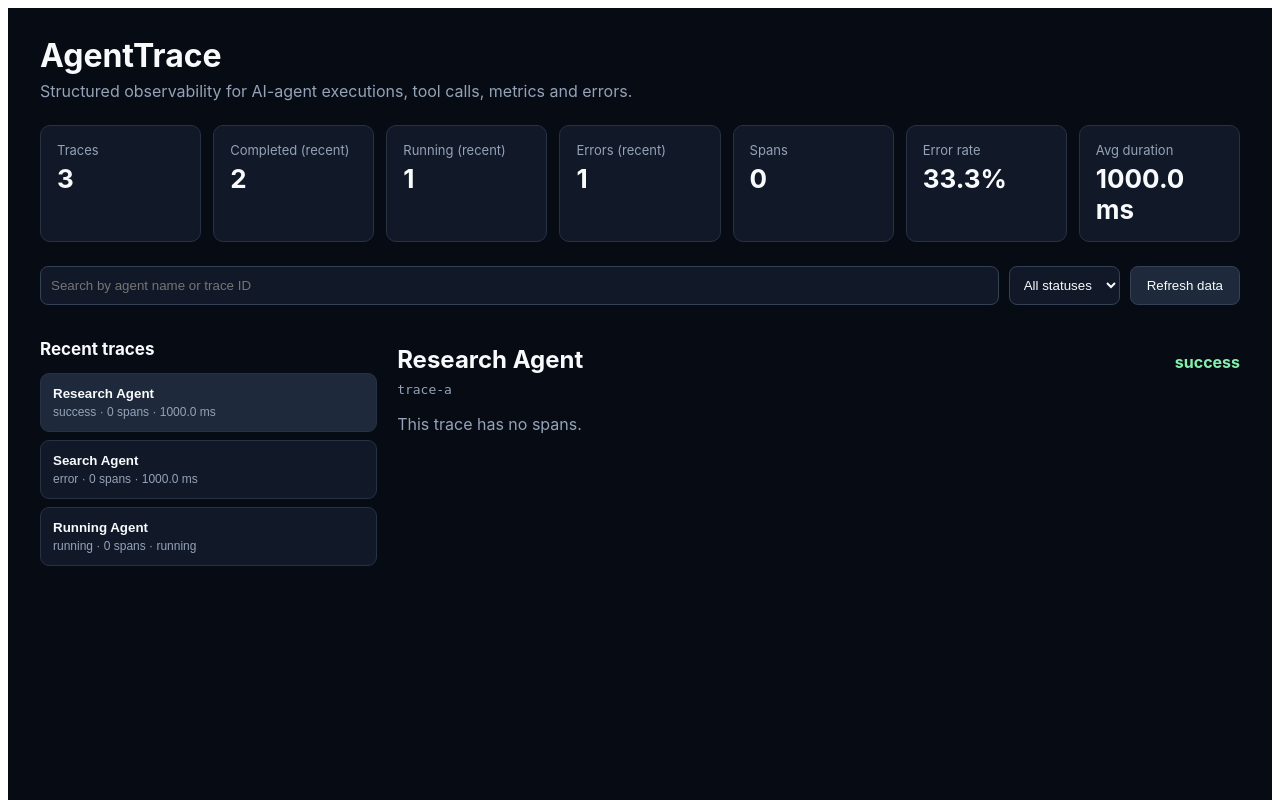
Test: DashboardPage interactions › filters visible trace buttons using search input and status selection
Expected: the button "Research Agent success · 0 spans · 1000.0 ms" is shown, [40,373,377,432]
In the field named "Search traces": (519, 286) [40,266,999,305], type "agent"
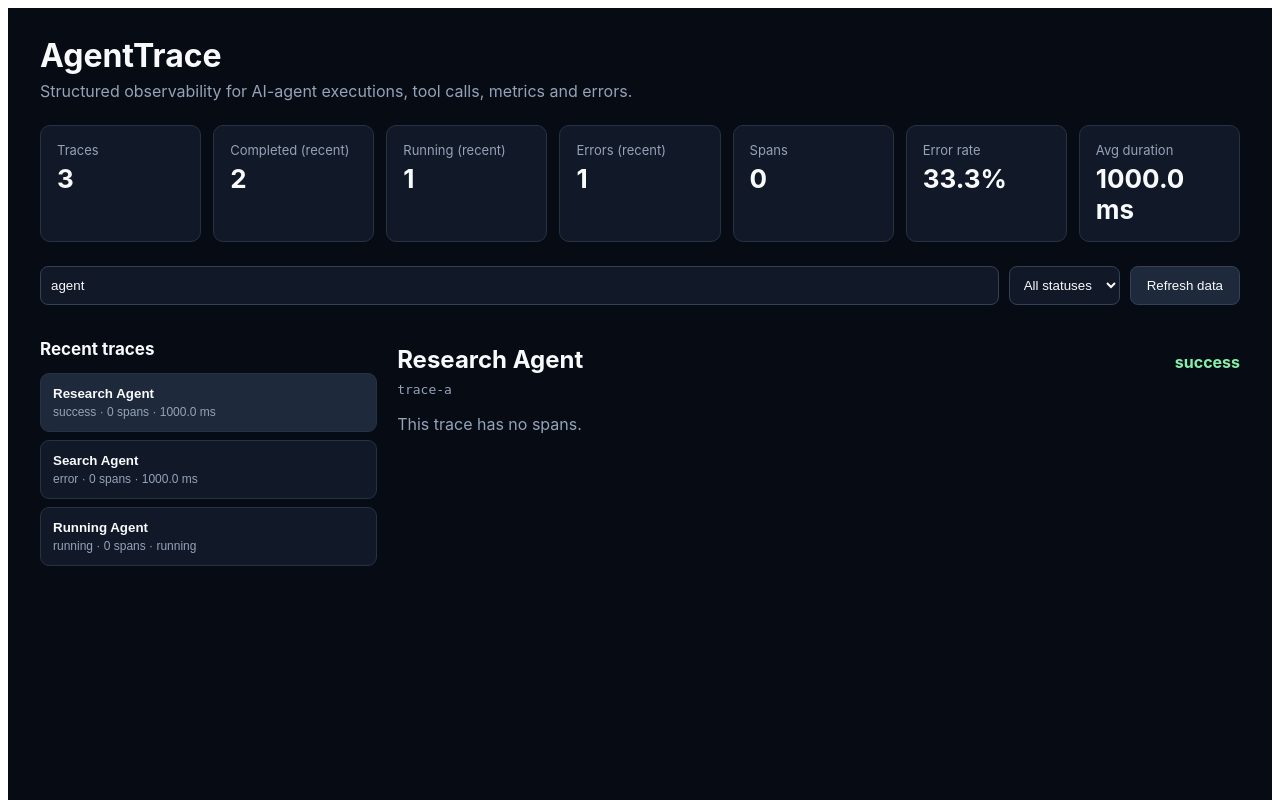
Select "Error" in the dropdown named "Filter trace status": (1064, 286) [1009,266,1120,305]
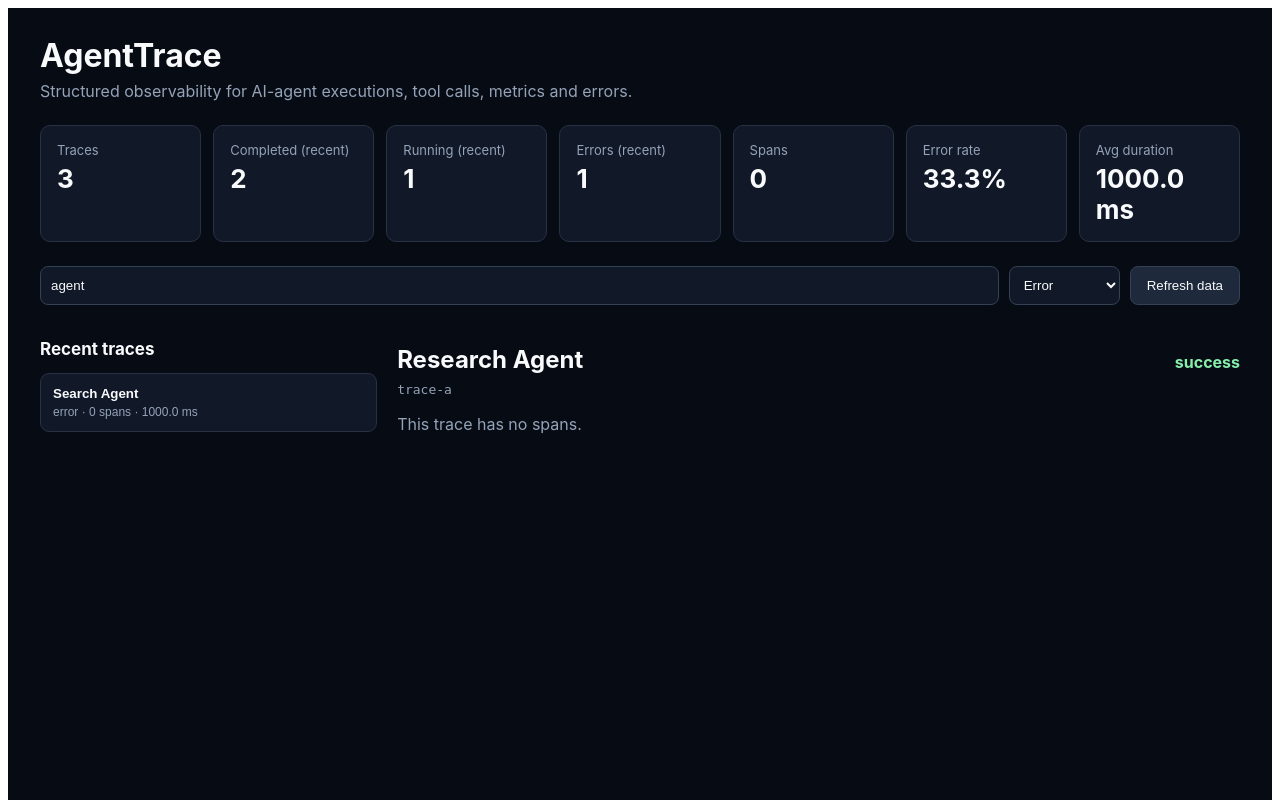
Expected: the button "Search Agent error · 0 spans · 1000.0 ms" is shown, [40,373,377,432]
Now the button "Running Agent" is gone
Replace the text in the field named "Search traces" with "missing": (519, 286) [40,266,999,305]
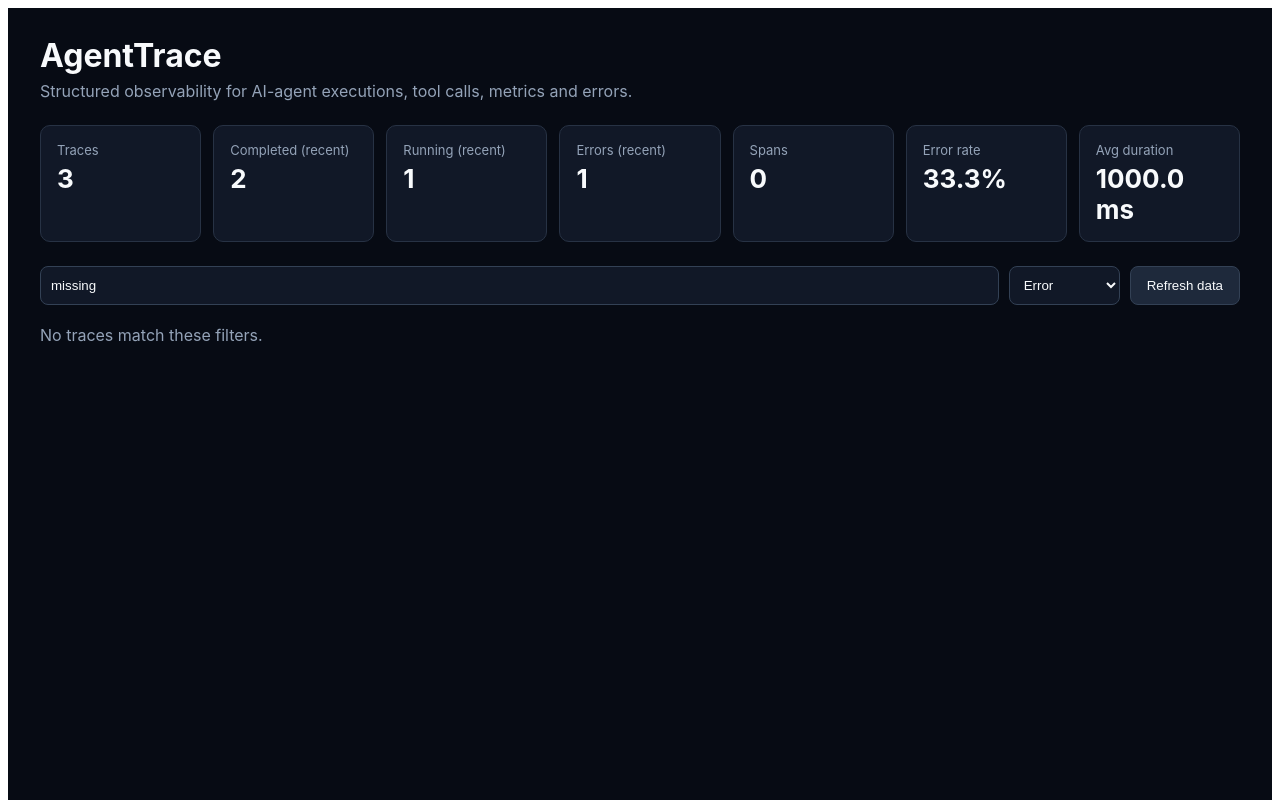
Now the message shows "No traces match", box [40,325,263,345]
